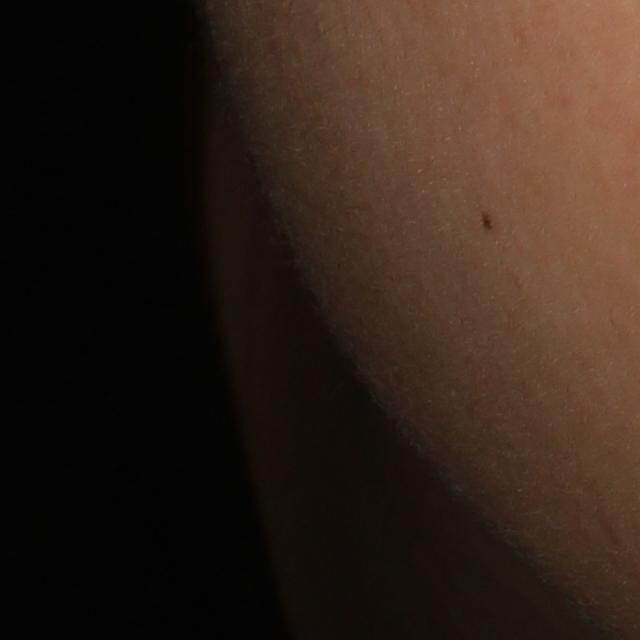nevus: (480, 209, 496, 232)
